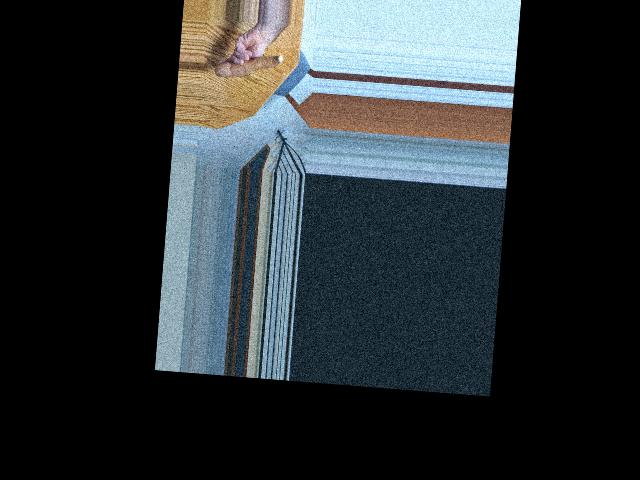sweet_potato: (215, 49, 284, 84)
